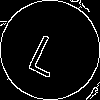L: (25, 25, 70, 79)
